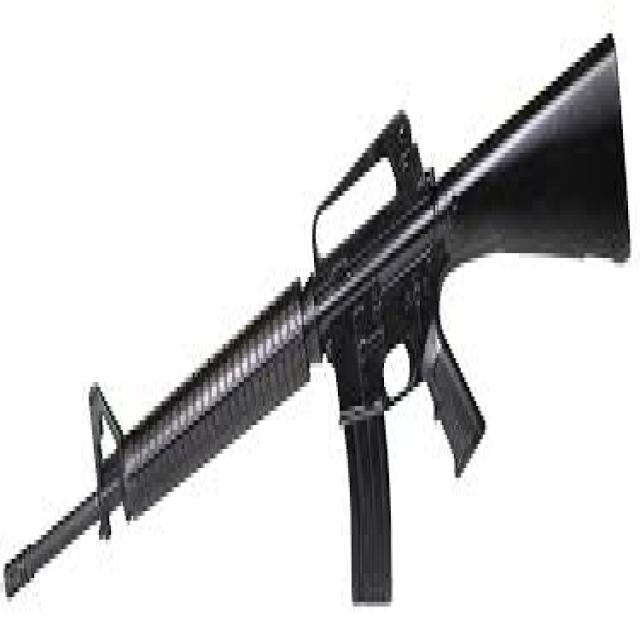rifle: (5, 24, 636, 618)
